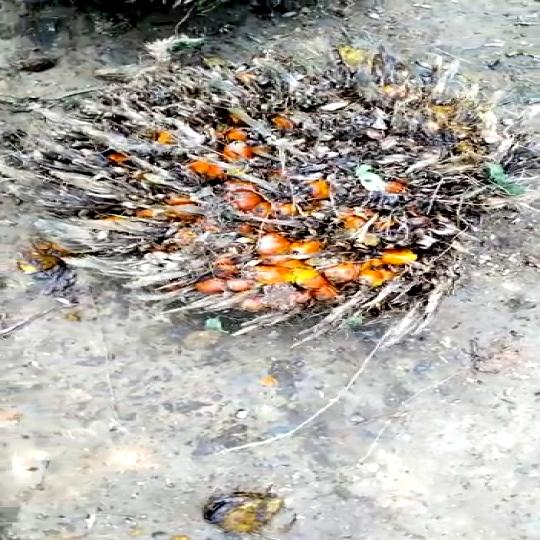terlalu masak: (0, 38, 540, 342)
